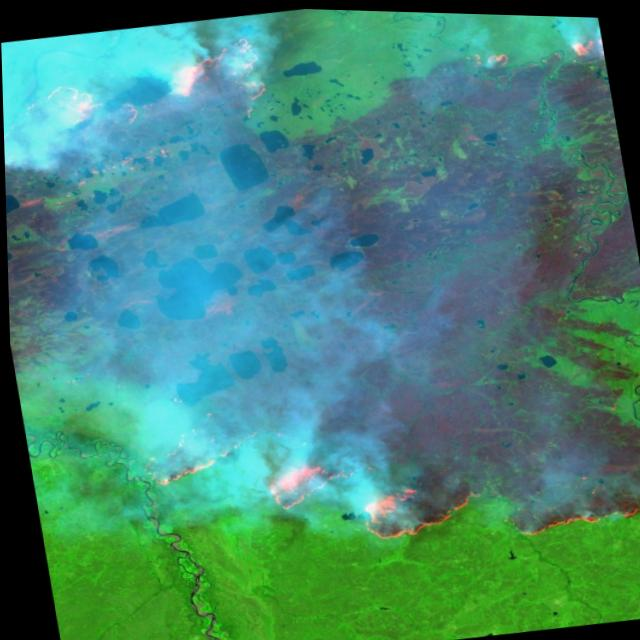fire: (2, 68, 152, 173), (150, 27, 293, 136), (119, 398, 262, 497), (351, 469, 491, 555), (504, 472, 640, 542), (251, 452, 362, 530), (557, 22, 606, 66), (455, 39, 517, 72)
